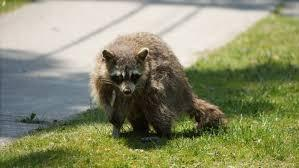raccoon: (81, 23, 235, 155)
